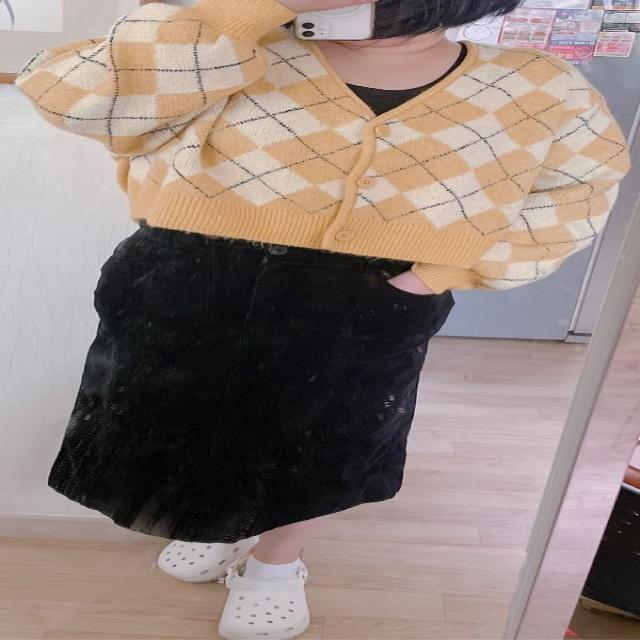cardigan: (23, 0, 635, 295)
skirt: (45, 218, 456, 537)
